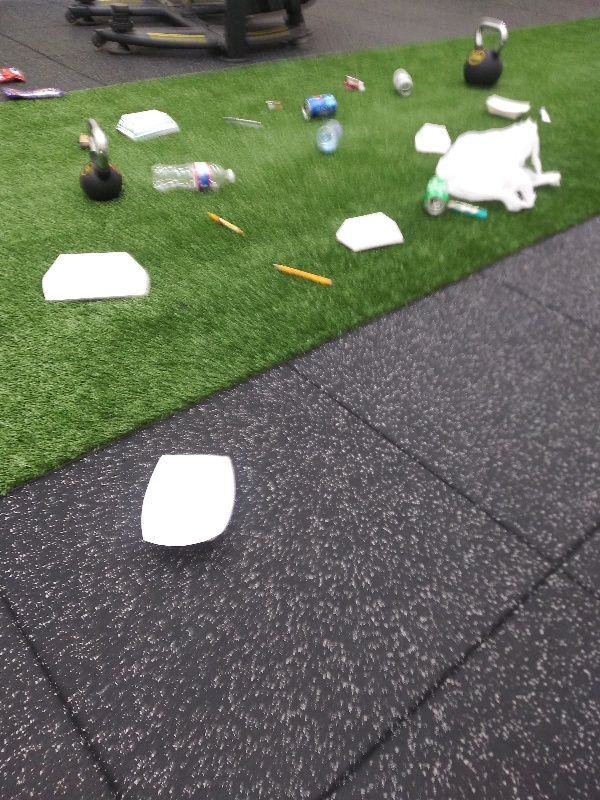bag: (1, 83, 68, 106), (1, 62, 25, 85)
bottle: (149, 160, 242, 196), (314, 117, 348, 163)
can: (420, 175, 452, 219), (390, 64, 419, 105), (300, 93, 338, 122)
plate: (132, 448, 240, 549), (34, 248, 151, 306), (328, 206, 407, 254), (114, 106, 186, 145), (477, 89, 534, 124), (410, 120, 453, 159)
